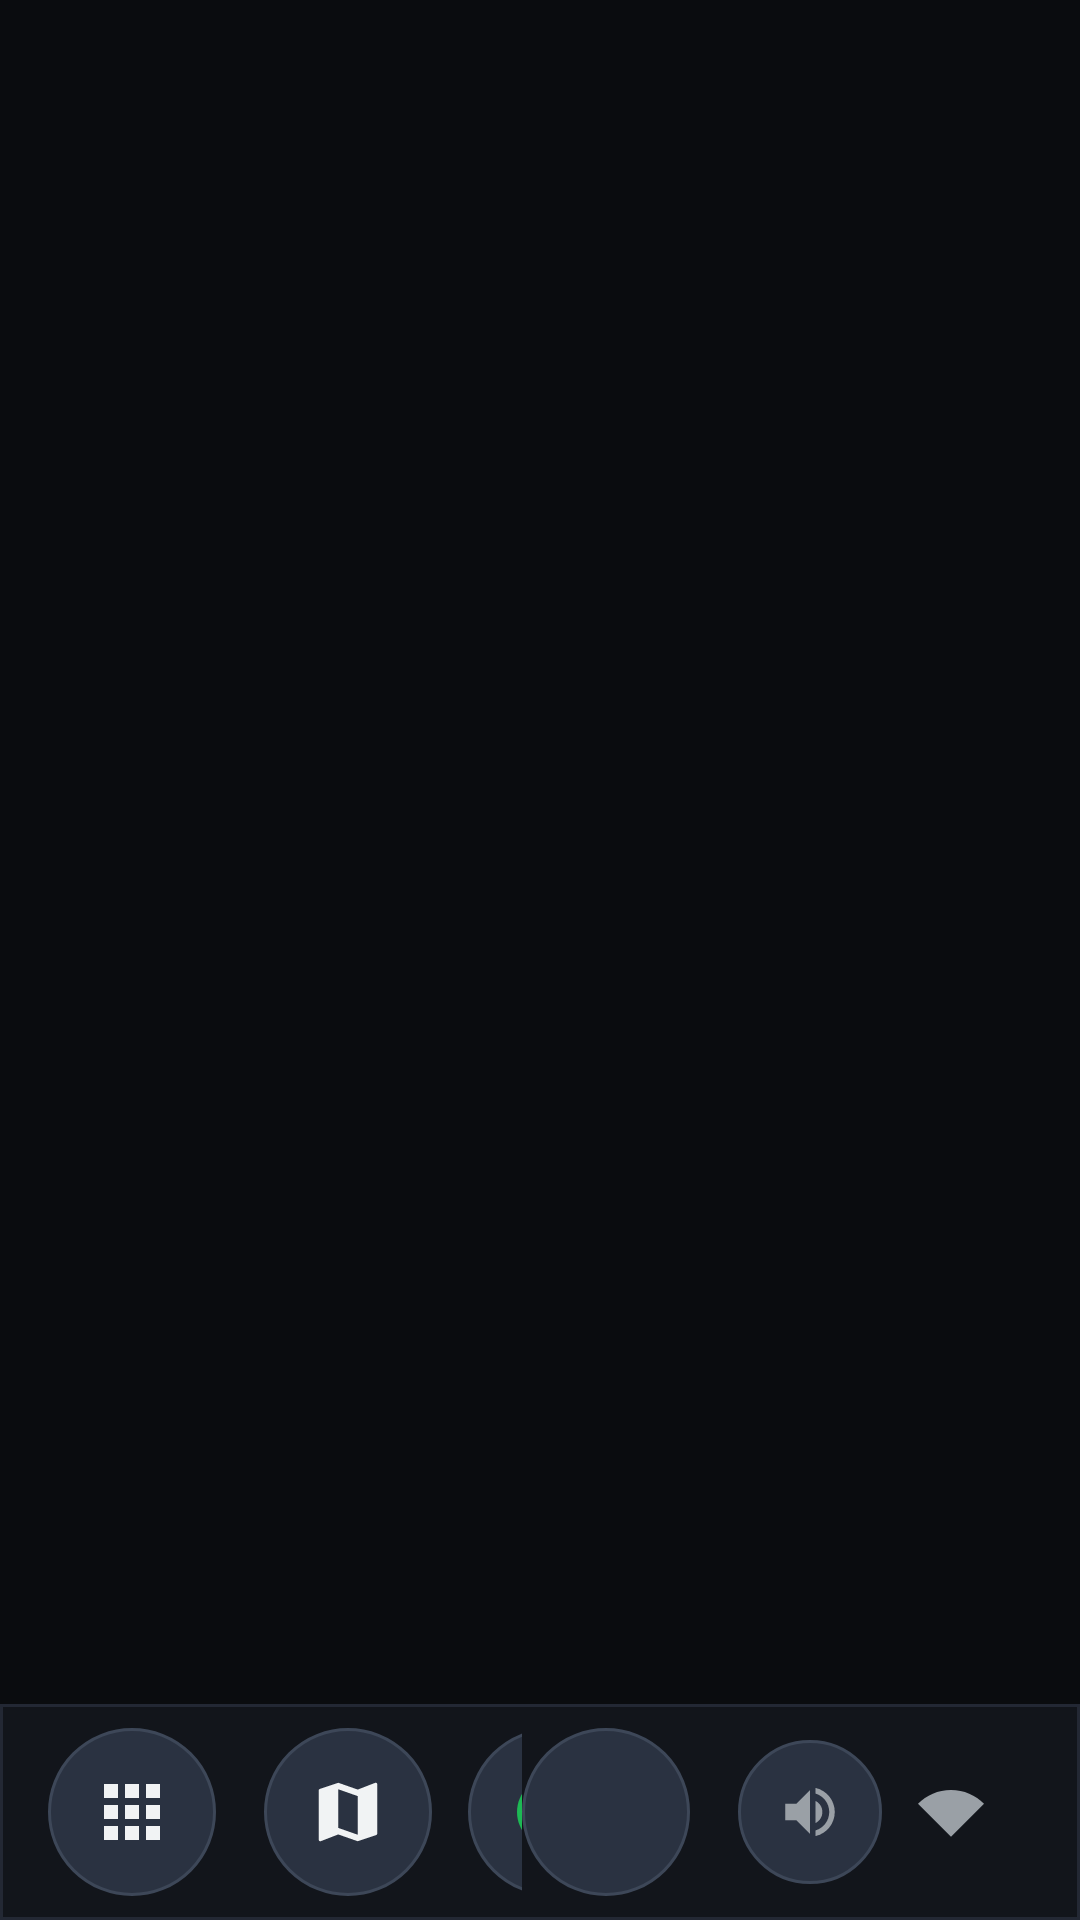

Screen size 1080×1920. Icon name, then its box in pixels as bbox(x1, y1, x2, y2):
dashboard apps: bbox(104, 1784, 160, 1840)
map: bbox(318, 1782, 378, 1842)
volume: bbox(785, 1788, 835, 1836)
wifi: bbox(918, 1790, 984, 1837)
